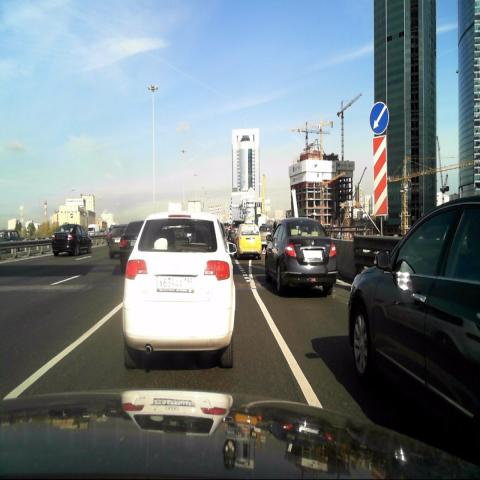4_2_2: (369, 99, 390, 136)
